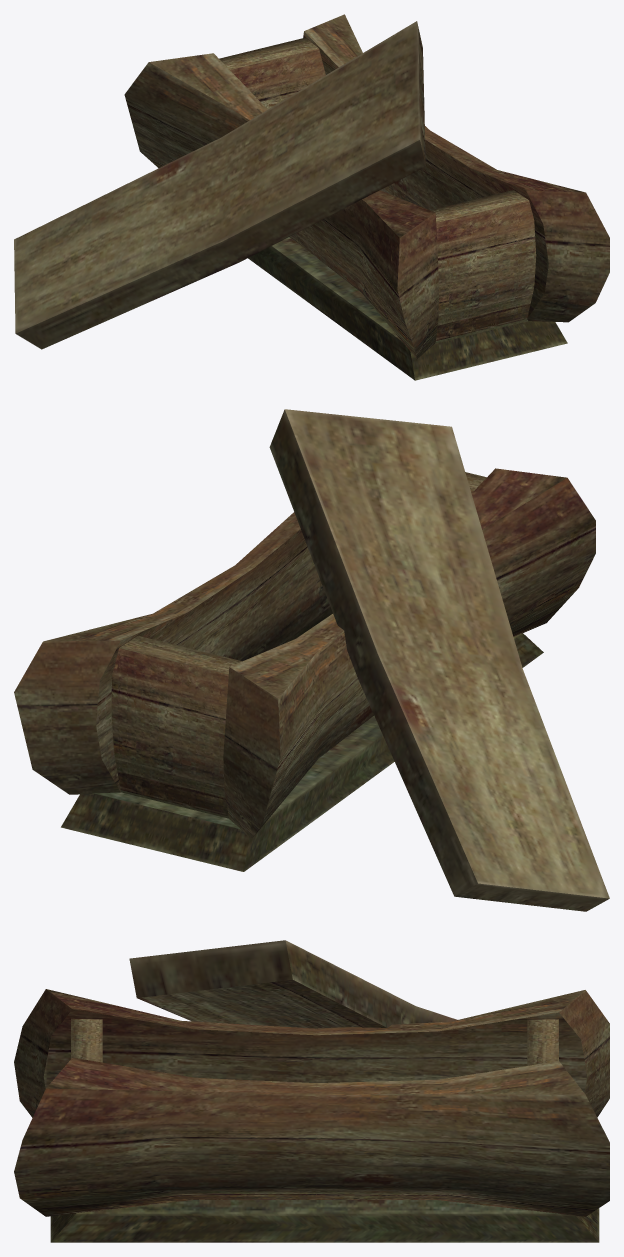
File: guancai_fd_60.FBX
The picture shows the model from 3 angles, top to bottom: view 1: azimuth 30°, elevation 25°; view 2: azimuth 150°, elevation 25°; view 3: azimuth 270°, elevation 25°; orthographic projection. The views are drawn at different scales.
Parts seen in each view (by area): view 1: guancai_fd_60; view 2: guancai_fd_60; view 3: guancai_fd_60.
Part boxes in pixels (x1,y1,x2,y2): guancai_fd_60: [14, 14, 609, 380]; guancai_fd_60: [14, 409, 609, 911]; guancai_fd_60: [14, 940, 609, 1242].
Size of what is drawn, in the model's own units: 314 by 215 by 357.
